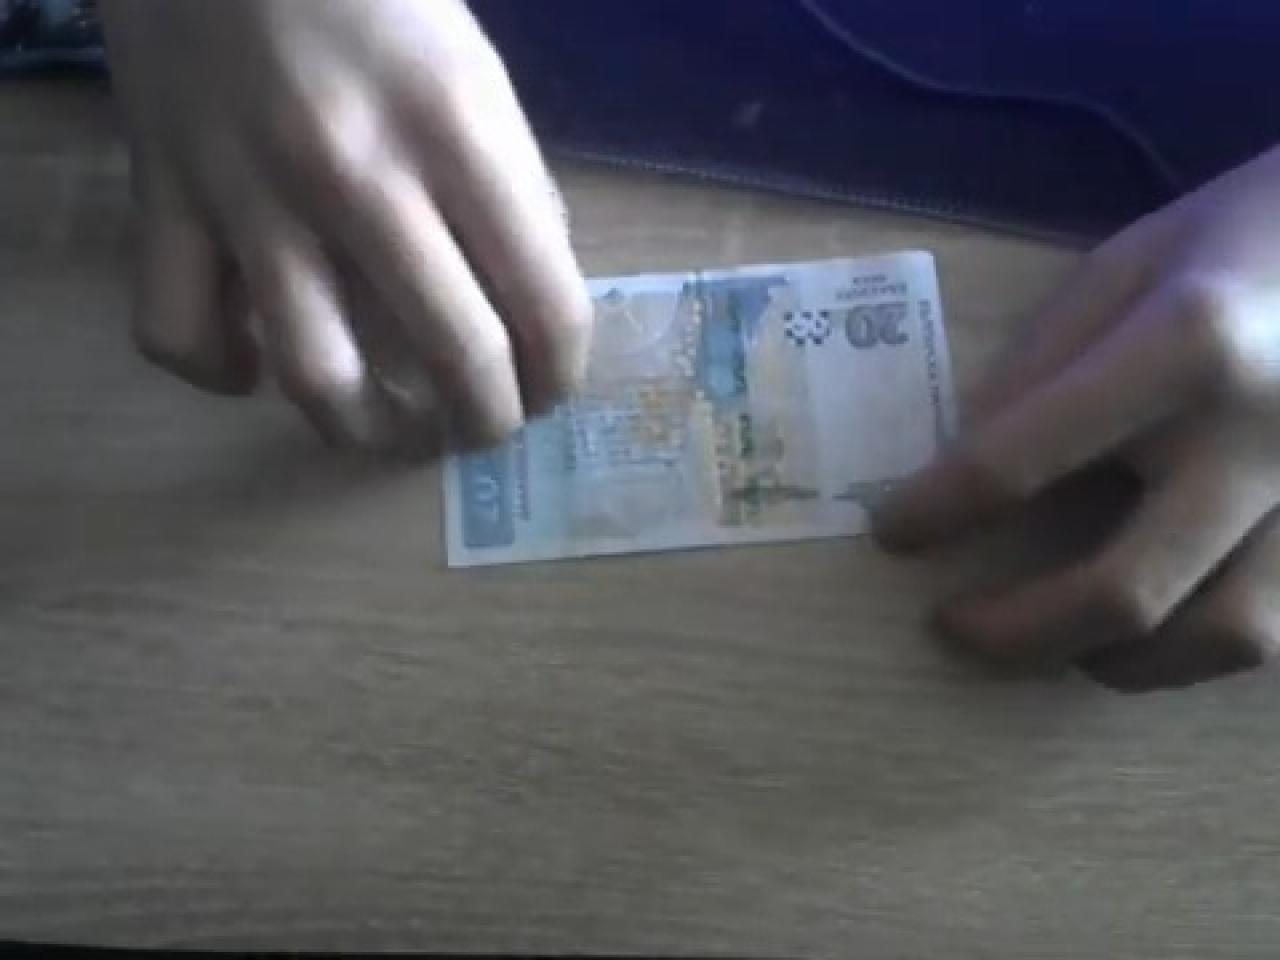20leva: (442, 251, 959, 571)
